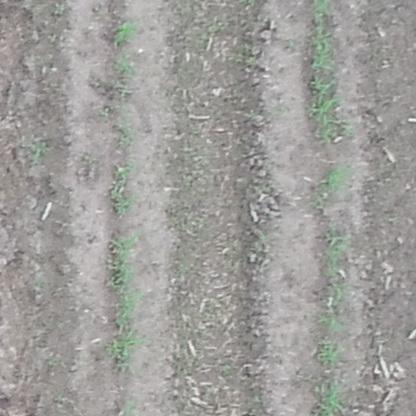corn: (309, 1, 354, 139), (321, 224, 348, 335), (108, 160, 138, 211), (104, 329, 145, 365), (310, 379, 348, 416), (112, 231, 135, 290), (313, 163, 351, 197), (113, 17, 140, 47), (317, 340, 342, 364)
